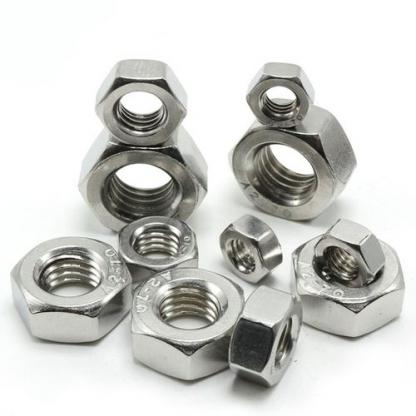FOD: (227, 97, 360, 222), (76, 123, 212, 236), (288, 225, 408, 344), (9, 234, 136, 346), (131, 266, 244, 382), (92, 58, 190, 148), (227, 287, 305, 388), (116, 214, 200, 285), (314, 222, 388, 292), (238, 62, 317, 127), (217, 216, 285, 286)
